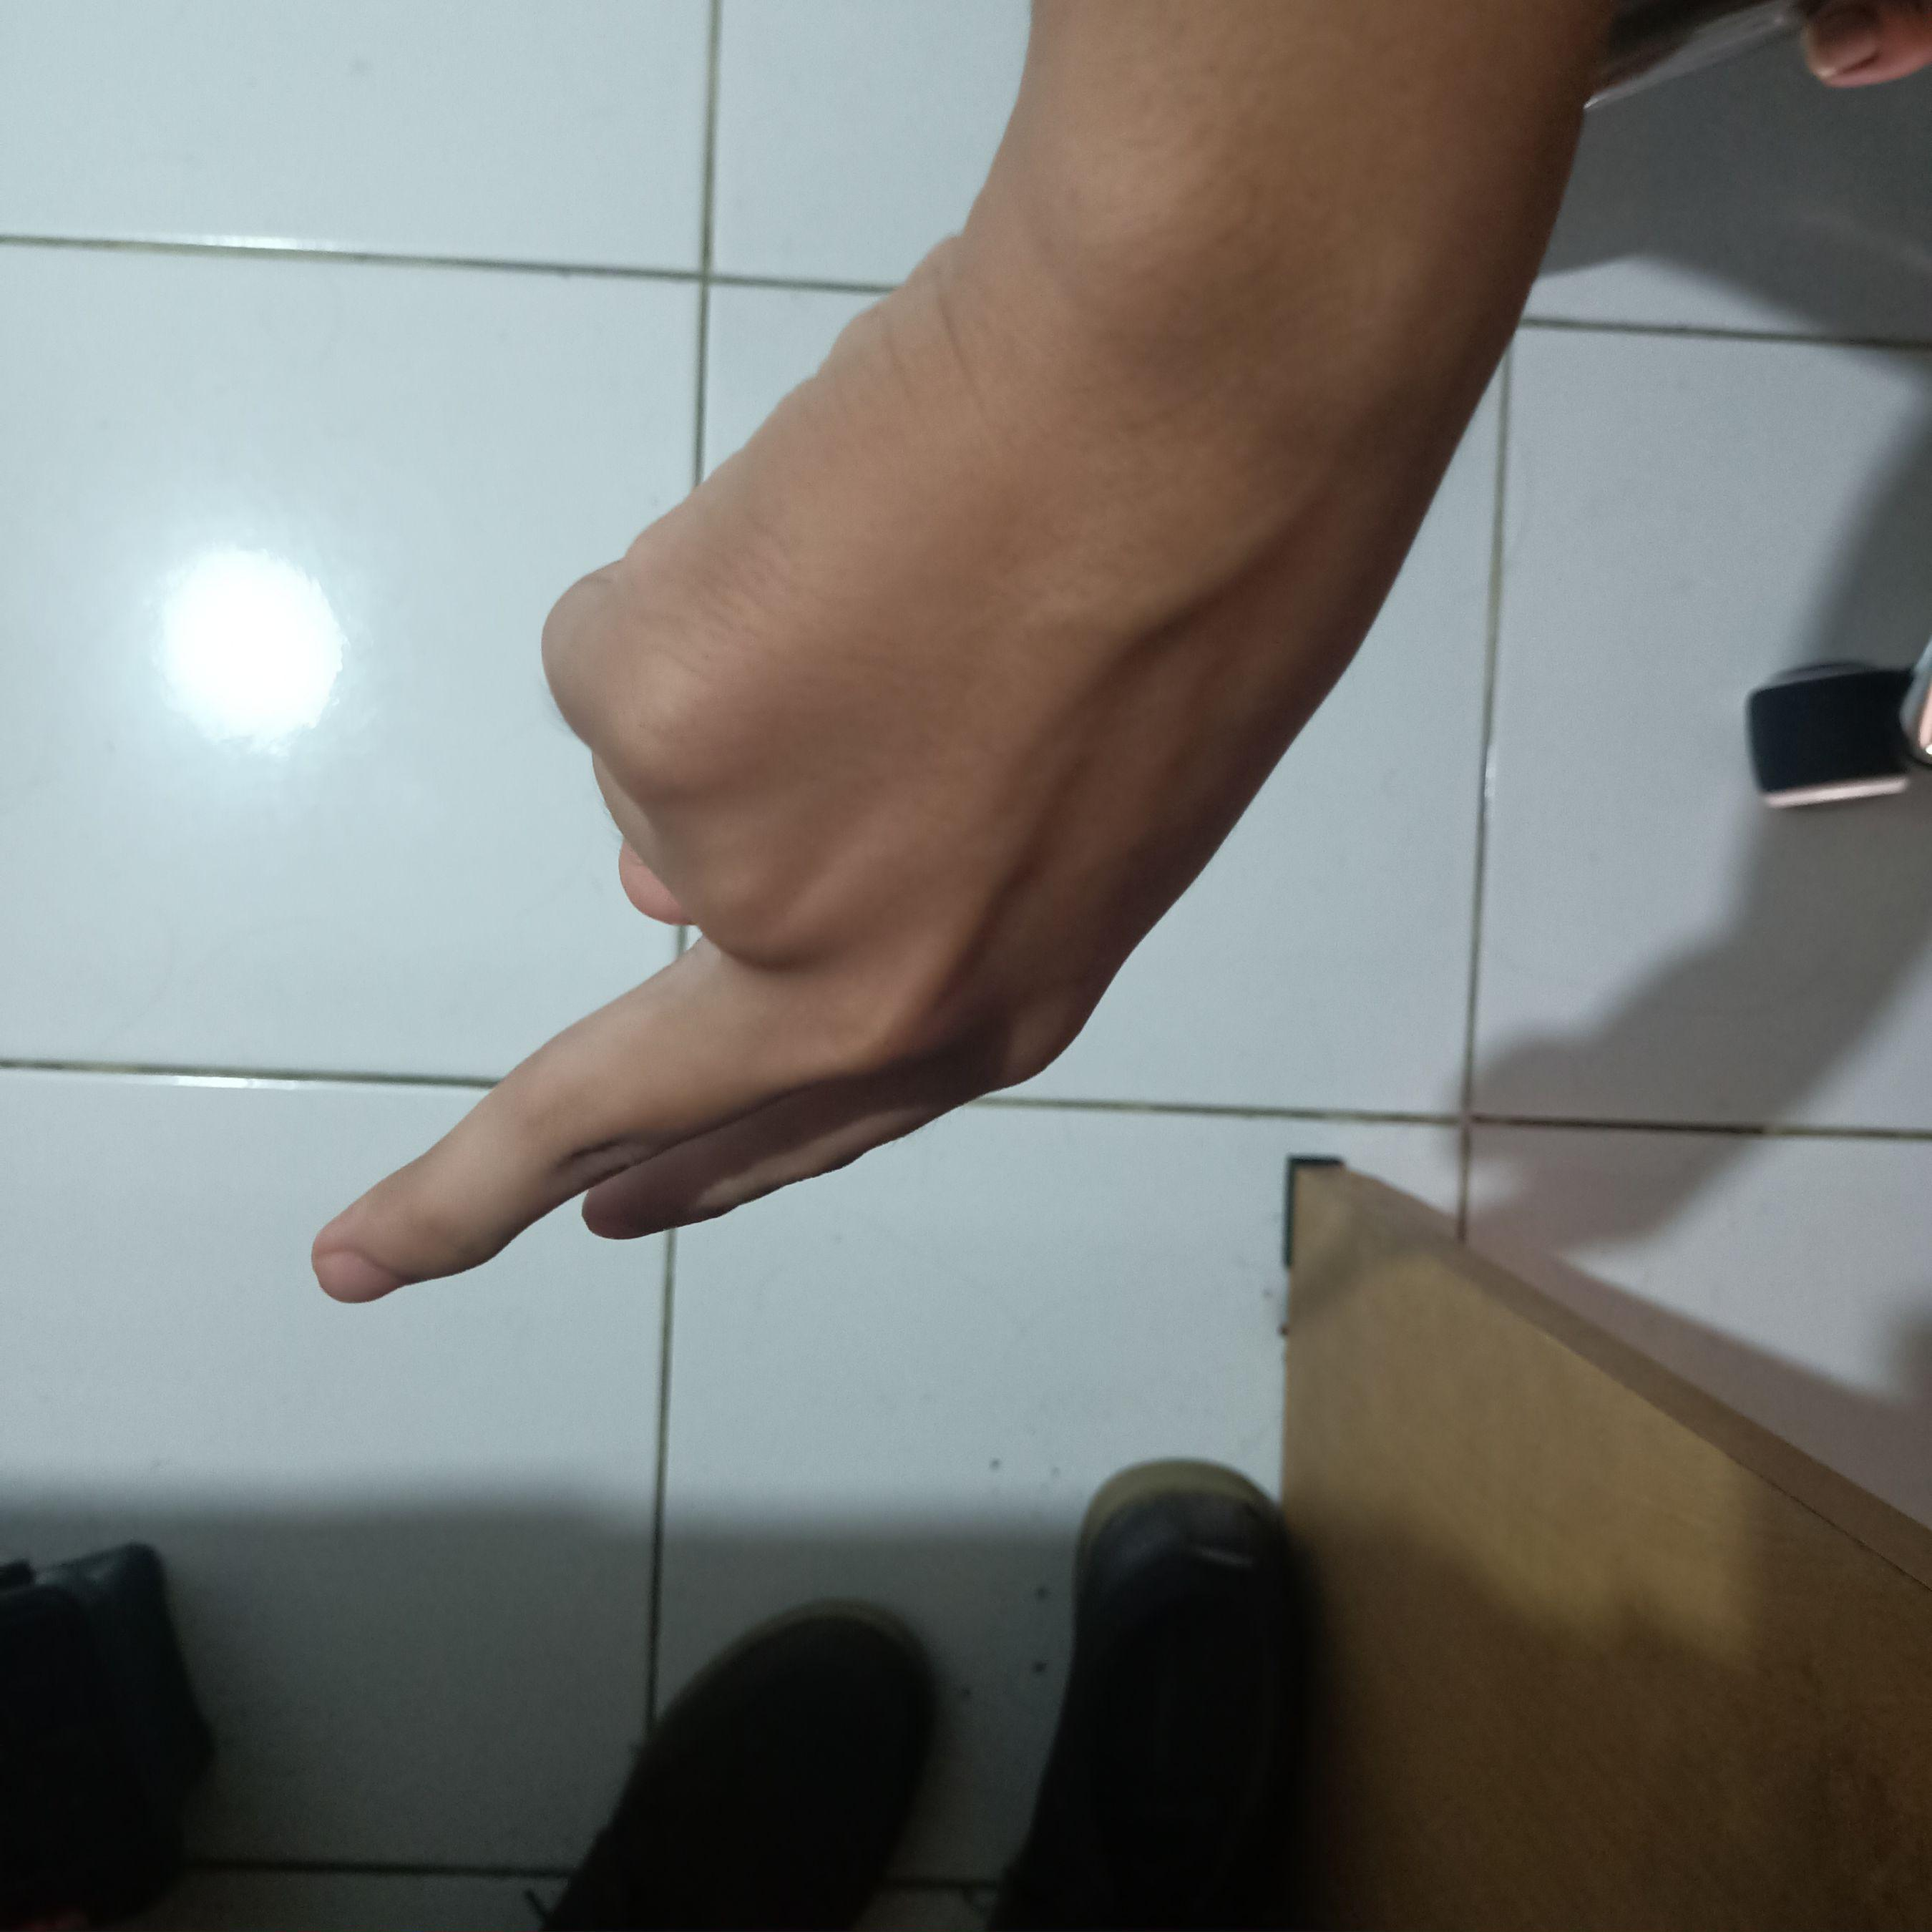scissors: (288, 200, 1445, 1323)
